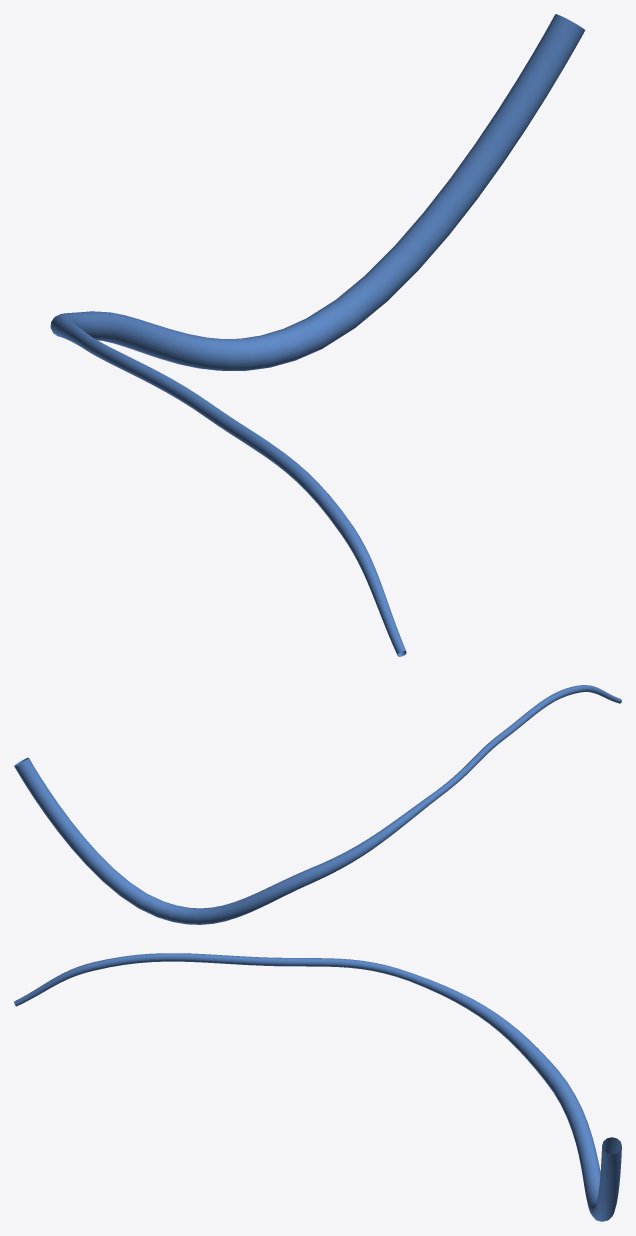
The picture shows the model from 3 angles, top to bottom: view 1: azimuth 30°, elevation 25°; view 2: azimuth 150°, elevation 25°; view 3: azimuth 270°, elevation 25°; orthographic projection. The views are drawn at different scales.
Parts seen in each view (by area): view 1: 左侧颈前静脉; view 2: 左侧颈前静脉; view 3: 左侧颈前静脉.
Boxes of the visible parts, <box> form: 左侧颈前静脉: <box>50,14,585,656</box>; 左侧颈前静脉: <box>14,685,621,924</box>; 左侧颈前静脉: <box>14,953,621,1221</box>.
Bounding box in the file's own units: 0.0484 × 0.0176 × 0.0629.
